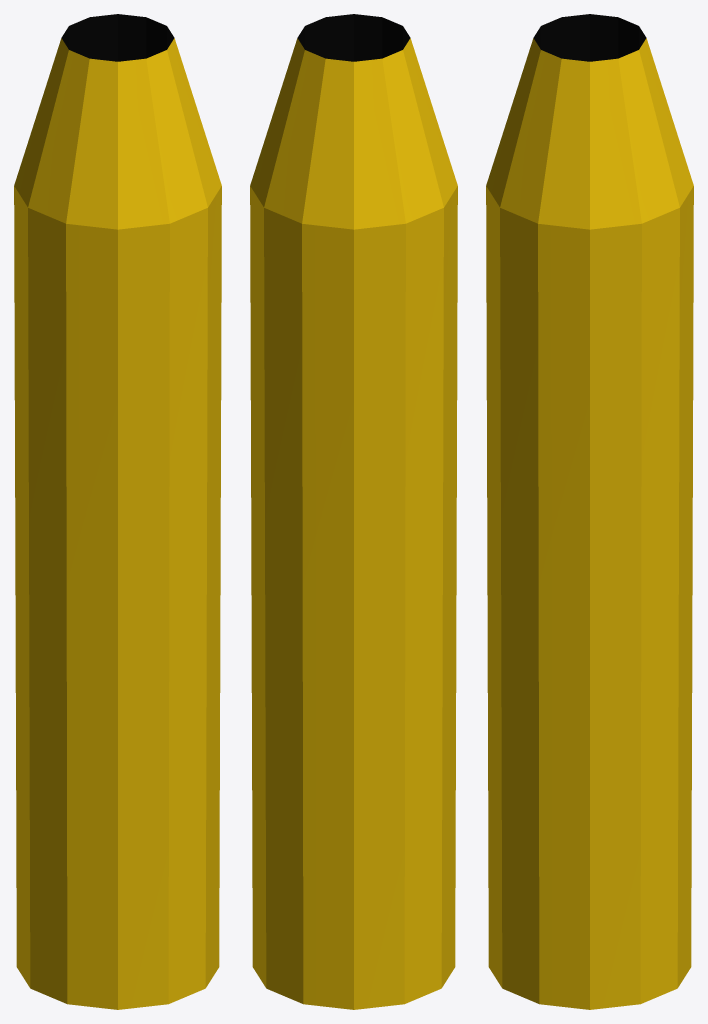
Rendered from Rifle_shell.fbx.
The picture shows the model from 3 angles, left to right: view 1: azimuth 30°, elevation 25°; view 2: azimuth 150°, elevation 25°; view 3: azimuth 270°, elevation 25°; orthographic projection.
Parts seen in each view (by area): view 1: Cylinder; view 2: Cylinder; view 3: Cylinder.
Boxes of the visible parts, bbox=[...] form: Cylinder: bbox=[14, 14, 221, 1009]; Cylinder: bbox=[250, 14, 457, 1009]; Cylinder: bbox=[486, 14, 693, 1009].
Bounding box in the file's own units: 25.11 × 124 × 25.11.
